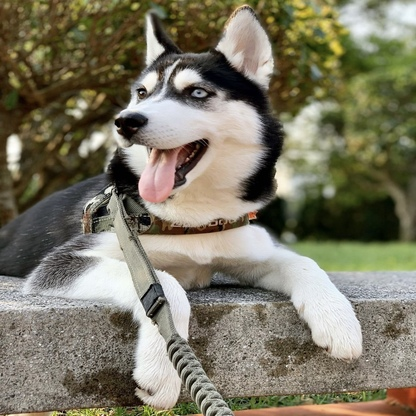husky: (1, 3, 365, 416)
